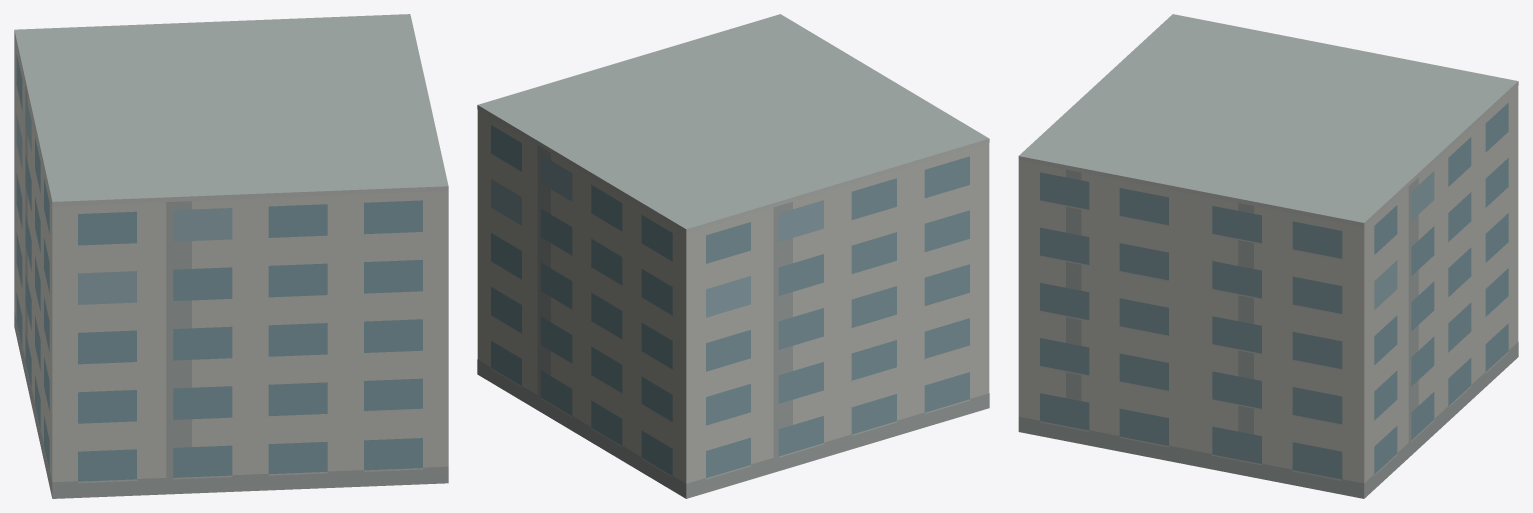
The model's file is residential-fe6e39f1-93ed-4aa7-ad6f-5eb94d38d190.glb.
The picture shows the model from 3 angles, left to right: view 1: azimuth 30°, elevation 25°; view 2: azimuth 150°, elevation 25°; view 3: azimuth 270°, elevation 25°; orthographic projection. The views are drawn at different scales.
Visible parts, largest first — view 1: residential-fe6e39f1-93ed-4aa7-ad6f-5eb94d38d190.tmp; view 2: residential-fe6e39f1-93ed-4aa7-ad6f-5eb94d38d190.tmp; view 3: residential-fe6e39f1-93ed-4aa7-ad6f-5eb94d38d190.tmp.
Boxes of the visible parts, x1,y1,x2,y2 form: residential-fe6e39f1-93ed-4aa7-ad6f-5eb94d38d190.tmp: (14,14,448,498); residential-fe6e39f1-93ed-4aa7-ad6f-5eb94d38d190.tmp: (477,14,989,498); residential-fe6e39f1-93ed-4aa7-ad6f-5eb94d38d190.tmp: (1018,14,1518,498).
Bounding box in the file's own units: 24.78 × 15.25 × 25.05.
